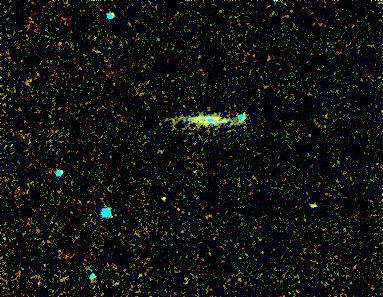star: (151, 184, 181, 214)
